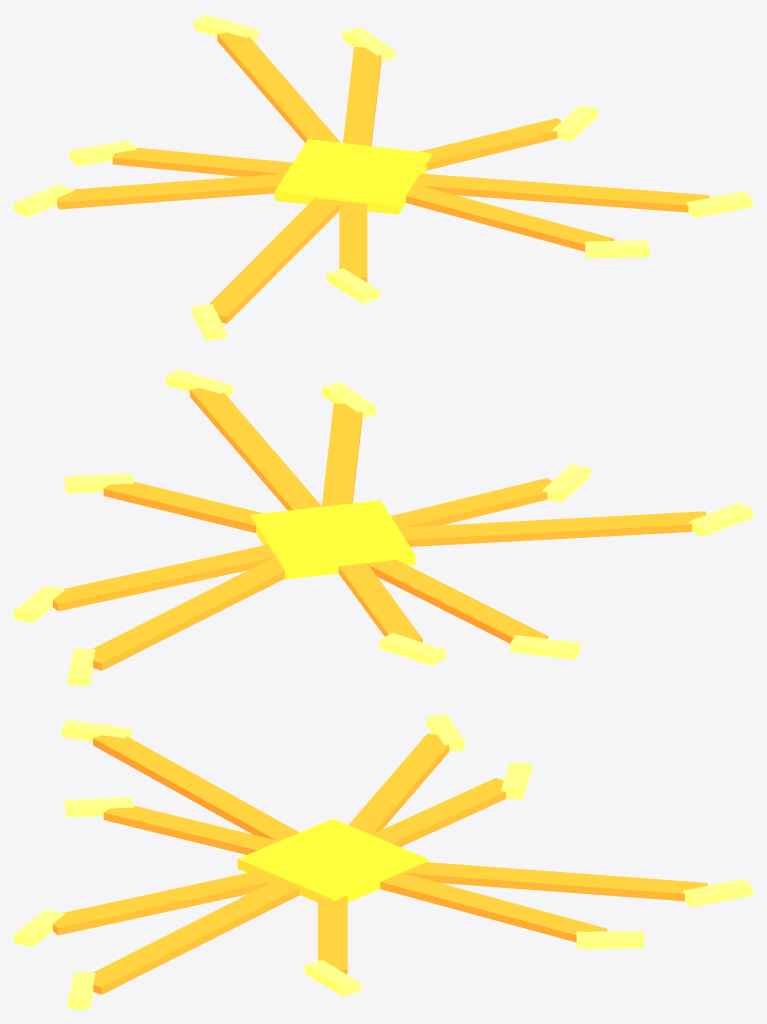
Rendered from FXLavaCracks.fbx.
3 renders of one model, top to bottom at view 1: azimuth 30°, elevation 25°; view 2: azimuth 150°, elevation 25°; view 3: azimuth 270°, elevation 25°, orthographic. The views are drawn at different scales.
Visible parts, largest first — view 1: FX Lava Cracks_body_18, FX Lava Cracks_body_16, FX Lava Cracks_body_10, FX Lava Cracks_body_8, FX Lava Cracks_body_14, FX Lava Cracks_body_4, FX Lava Cracks_body_6, FX Lava Cracks_body_2, FX Lava Cracks_body_0, FX Lava Cracks_body_12, FX Lava Cracks_body_15, FX Lava Cracks_body_17 (+7 smaller); view 2: FX Lava Cracks_body_18, FX Lava Cracks_body_10, FX Lava Cracks_body_4, FX Lava Cracks_body_2, FX Lava Cracks_body_16, FX Lava Cracks_body_8, FX Lava Cracks_body_12, FX Lava Cracks_body_0, FX Lava Cracks_body_14, FX Lava Cracks_body_6, FX Lava Cracks_body_9, FX Lava Cracks_body_7 (+7 smaller); view 3: FX Lava Cracks_body_18, FX Lava Cracks_body_4, FX Lava Cracks_body_16, FX Lava Cracks_body_10, FX Lava Cracks_body_14, FX Lava Cracks_body_2, FX Lava Cracks_body_8, FX Lava Cracks_body_12, FX Lava Cracks_body_6, FX Lava Cracks_body_0, FX Lava Cracks_body_3, FX Lava Cracks_body_5 (+7 smaller).
Boxes of the visible parts, box(x1,y1,x2,y2) form: FX Lava Cracks_body_18: box(274, 139, 431, 214); FX Lava Cracks_body_16: box(413, 173, 709, 212); FX Lava Cracks_body_10: box(209, 198, 340, 323); FX Lava Cracks_body_8: box(57, 174, 285, 209); FX Lava Cracks_body_14: box(406, 185, 614, 251); FX Lava Cracks_body_4: box(217, 32, 340, 142); FX Lava Cracks_body_6: box(112, 147, 292, 176); FX Lava Cracks_body_2: box(343, 47, 381, 146); FX Lava Cracks_body_0: box(420, 118, 561, 170); FX Lava Cracks_body_12: box(339, 201, 367, 282); FX Lava Cracks_body_15: box(585, 240, 649, 258); FX Lava Cracks_body_17: box(686, 191, 752, 218); FX Lava Cracks_body_18: box(250, 500, 415, 579); FX Lava Cracks_body_10: box(398, 511, 706, 546); FX Lava Cracks_body_4: box(92, 556, 284, 670); FX Lava Cracks_body_2: box(53, 544, 274, 611); FX Lava Cracks_body_16: box(190, 388, 321, 510); FX Lava Cracks_body_8: box(367, 559, 547, 643); FX Lava Cracks_body_12: box(391, 478, 551, 527); FX Lava Cracks_body_0: box(103, 481, 262, 532); FX Lava Cracks_body_14: box(322, 403, 362, 506); FX Lava Cracks_body_6: box(338, 563, 422, 642); FX Lava Cracks_body_9: box(510, 635, 580, 659); FX Lava Cracks_body_7: box(379, 632, 445, 665); FX Lava Cracks_body_18: box(237, 819, 428, 902); FX Lava Cracks_body_4: box(401, 862, 707, 901); FX Lava Cracks_body_16: box(92, 879, 299, 994); FX Lava Cracks_body_10: box(93, 735, 299, 841); FX Lava Cracks_body_14: box(53, 870, 278, 935); FX Lava Cracks_body_2: box(380, 873, 607, 942); FX Lava Cracks_body_8: box(348, 733, 449, 834); FX Lava Cracks_body_12: box(103, 805, 278, 854); FX Lava Cracks_body_6: box(371, 778, 505, 846); FX Lava Cracks_body_0: box(318, 895, 347, 974); FX Lava Cracks_body_3: box(576, 930, 644, 949); FX Lava Cracks_body_5: box(682, 878, 752, 907).
Size of the model in its own units: 504 by 8 by 548.
